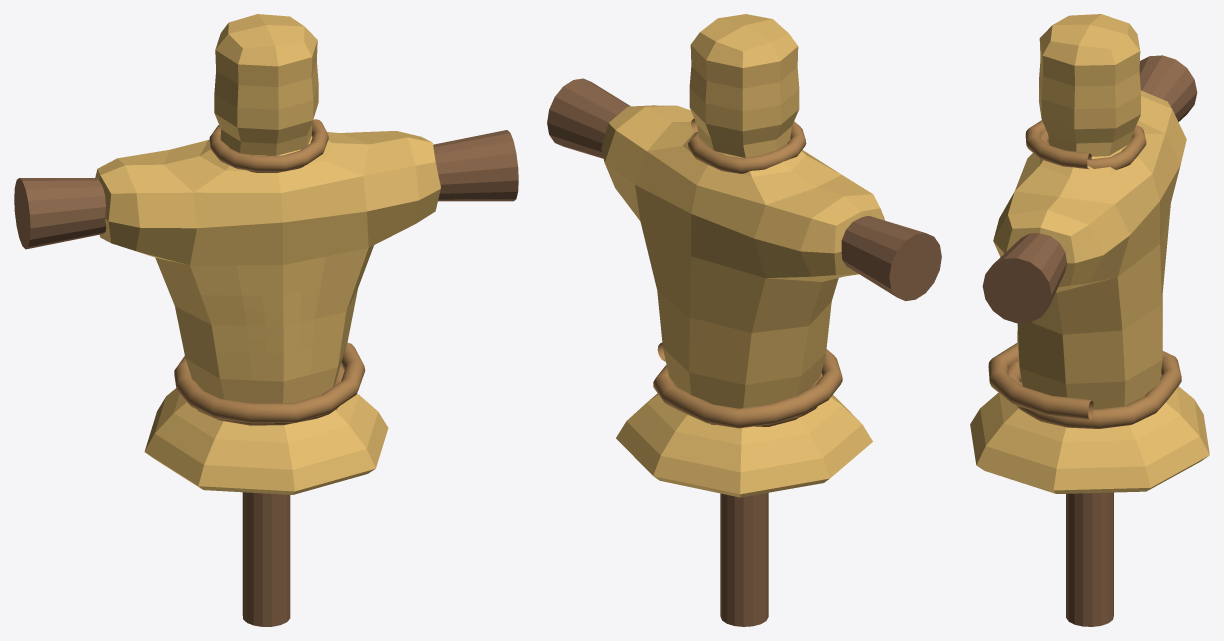
File: farm-scarecrow.fbx
The picture shows the model from 3 angles, left to right: view 1: azimuth 30°, elevation 25°; view 2: azimuth 150°, elevation 25°; view 3: azimuth 270°, elevation 25°; orthographic projection.
Visible parts, largest first — view 1: Spiral.002; view 2: Spiral.002; view 3: Spiral.002.
Part boxes in pixels (box(x1,y1,x2,y2)): Spiral.002: box(14, 14, 518, 626); Spiral.002: box(547, 14, 941, 626); Spiral.002: box(970, 14, 1209, 626).
Size of the model in its own units: 280 by 365 by 134.
